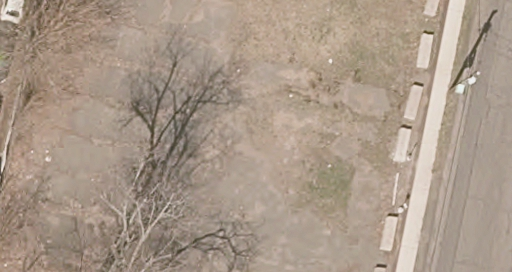DT: (447, 69, 480, 99)
